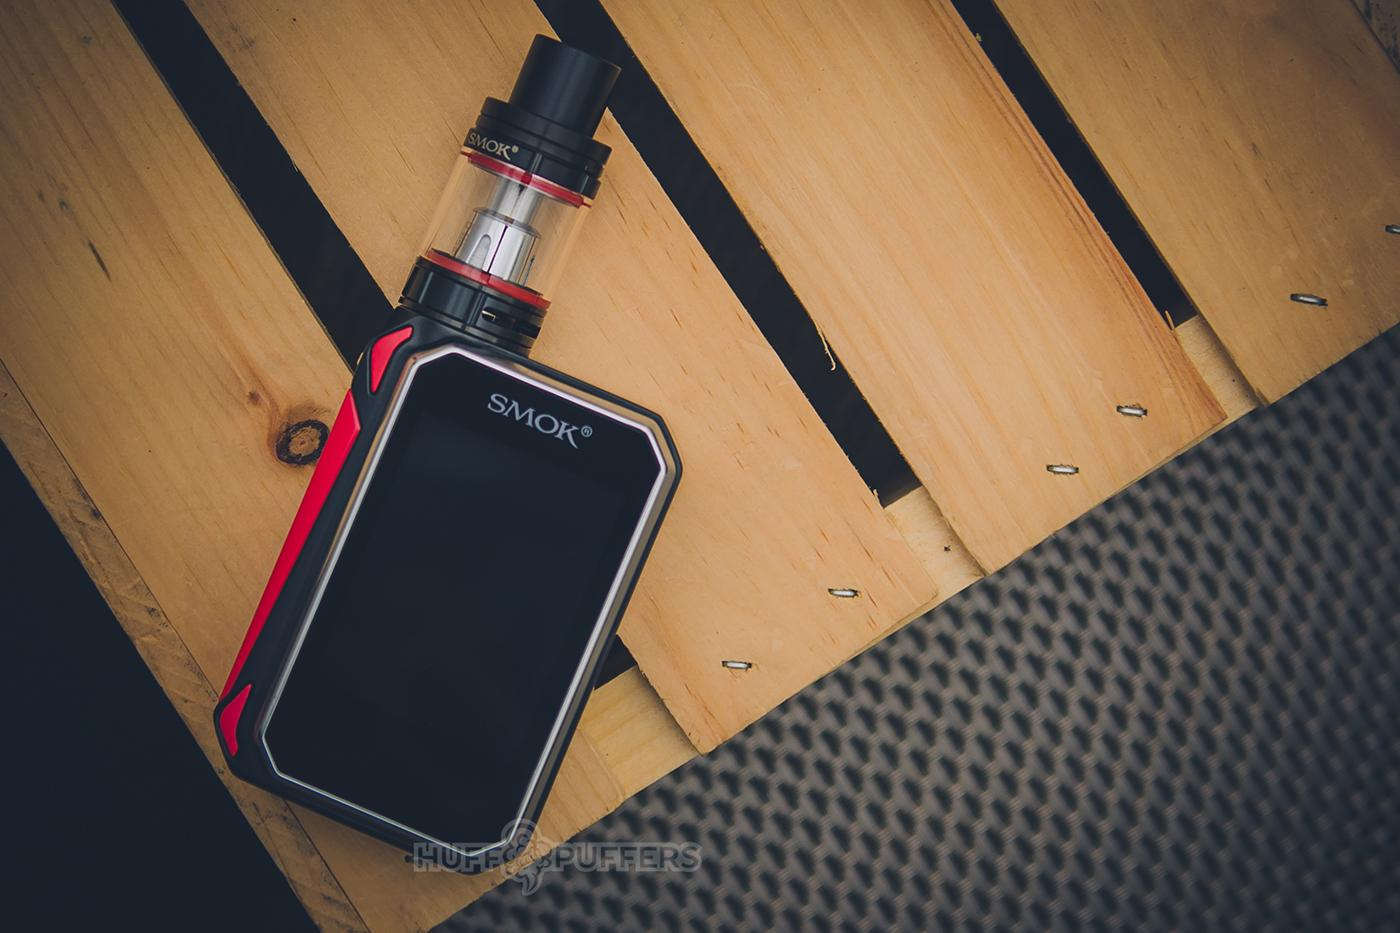Vape: (214, 35, 680, 872)
